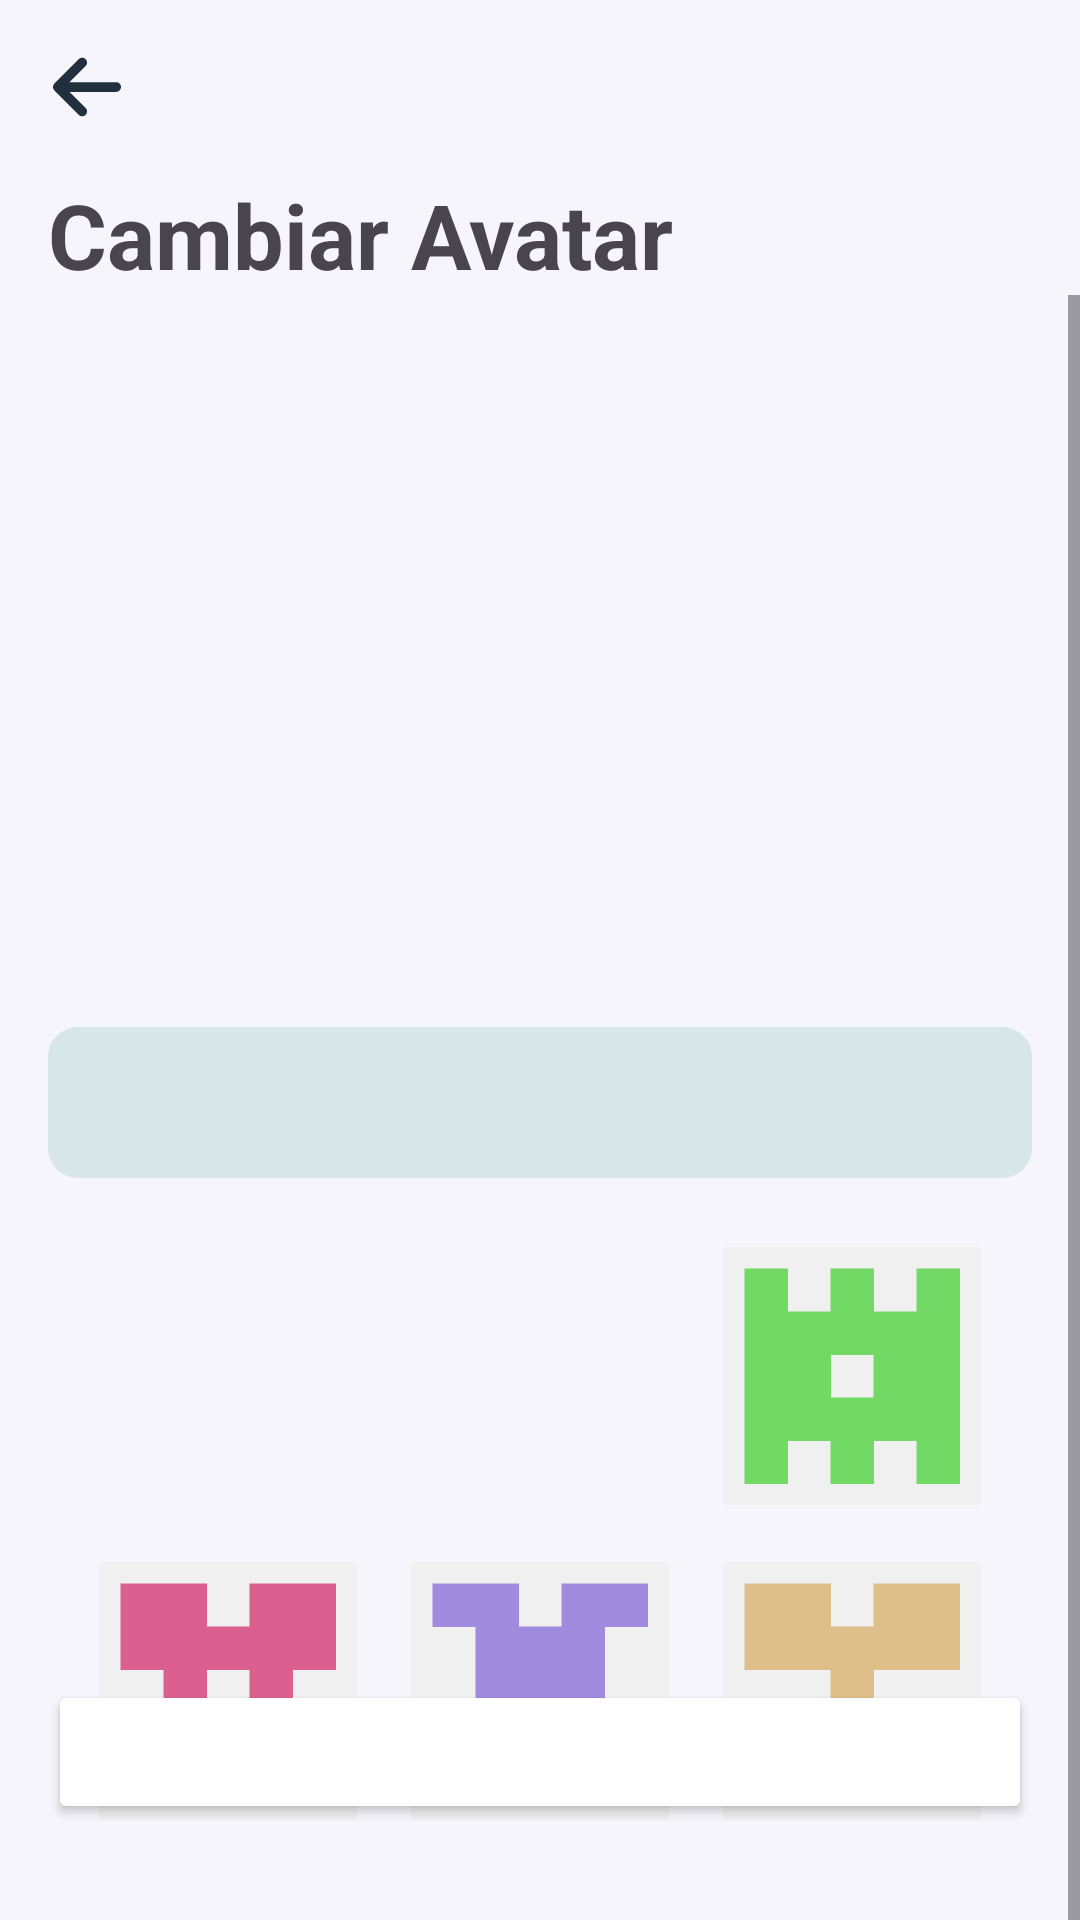

Locate icon controls on the screen. Image size 1080×1920, boxes as (x1, y1, x2, y2).
go back arrow: (53, 57, 121, 117)
